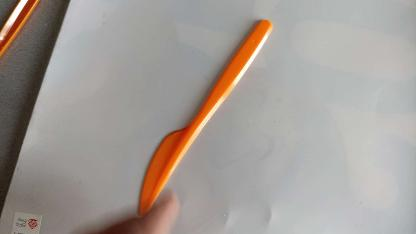Others: (134, 16, 274, 222)
